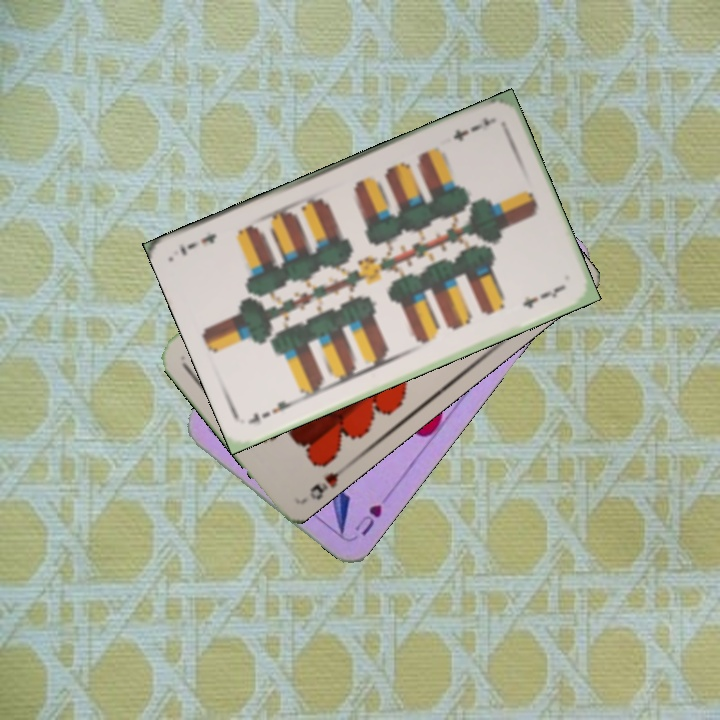E7: (244, 394, 301, 427), (448, 113, 497, 144)
H9: (305, 461, 348, 502)
HU: (350, 500, 385, 538)
